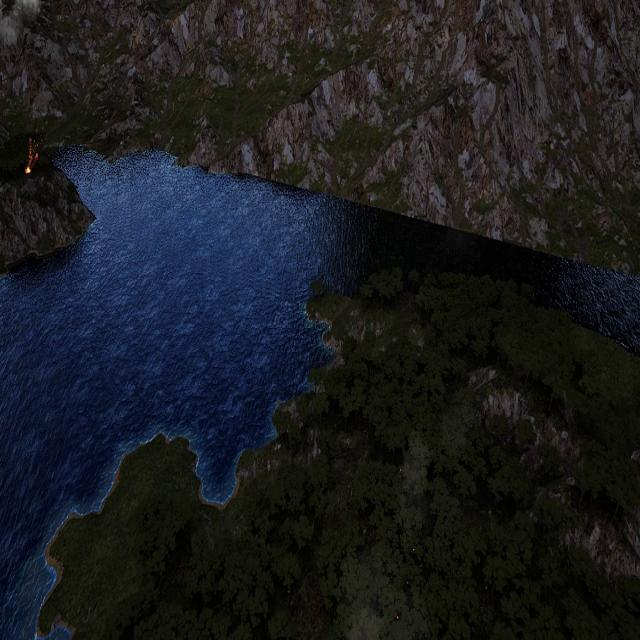fire: (25, 165, 33, 178)
